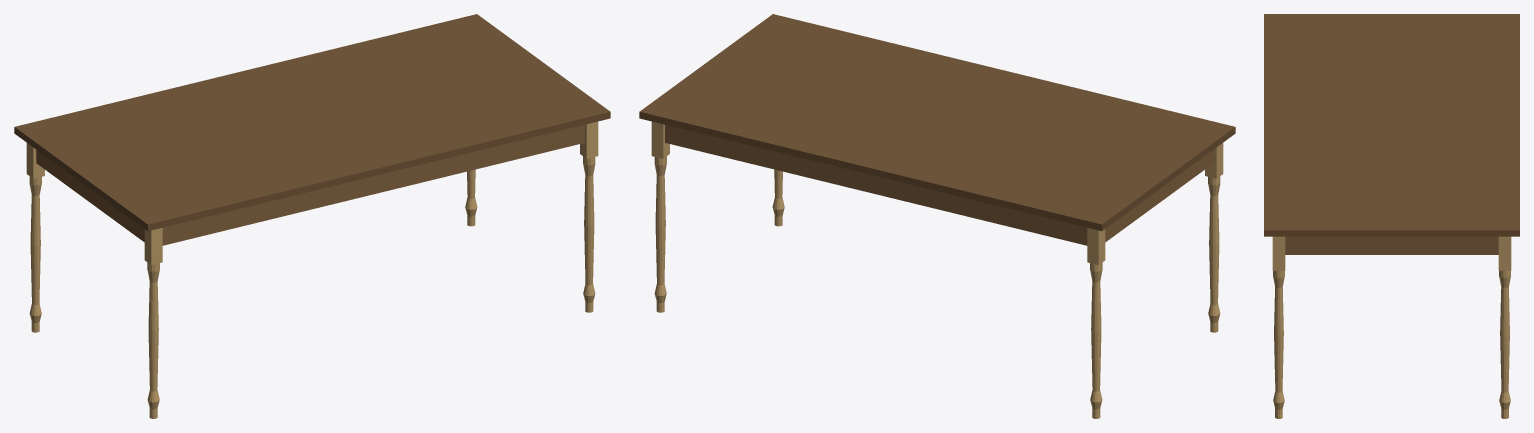
File: FET-DTB-6-seat.glb
3 renders of one model, left to right at view 1: azimuth 30°, elevation 25°; view 2: azimuth 150°, elevation 25°; view 3: azimuth 270°, elevation 25°, orthographic. The views are drawn at different scales.
Parts seen in each view (by area): view 1: top:pbr, apron-f:pbr, leg-fl:pbr, leg-fr:pbr, leg-bl:pbr, apron-l:pbr; view 2: top:pbr, apron-b:pbr, leg-bl:pbr, leg-br:pbr, leg-fl:pbr, apron-l:pbr; view 3: top:pbr, apron-r:pbr, leg-fr:pbr, leg-br:pbr.
Part boxes in pixels (<box>): top:pbr: <box>14,14,610,231</box>; apron-f:pbr: <box>162,124,584,245</box>; leg-fl:pbr: <box>144,228,162,418</box>; leg-fr:pbr: <box>580,121,598,312</box>; leg-bl:pbr: <box>26,143,44,332</box>; apron-l:pbr: <box>36,150,144,242</box>; top:pbr: <box>639,14,1235,231</box>; apron-b:pbr: <box>665,124,1087,245</box>; leg-bl:pbr: <box>1087,228,1105,418</box>; leg-br:pbr: <box>651,121,669,312</box>; leg-fl:pbr: <box>1205,143,1223,332</box>; apron-l:pbr: <box>1105,150,1213,242</box>; top:pbr: <box>1264,14,1519,236</box>; apron-r:pbr: <box>1285,236,1498,254</box>; leg-fr:pbr: <box>1272,236,1285,418</box>; leg-br:pbr: <box>1498,236,1511,418</box>.
Size of the model in its own units: 1.8 by 0.75 by 0.9.
